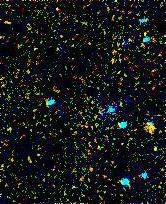star: (136, 114, 166, 144)
